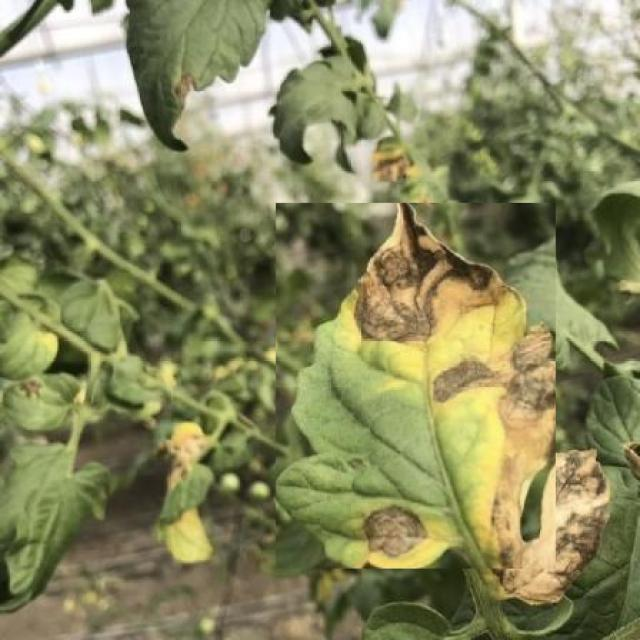Early Blight: (276, 203, 556, 568)
